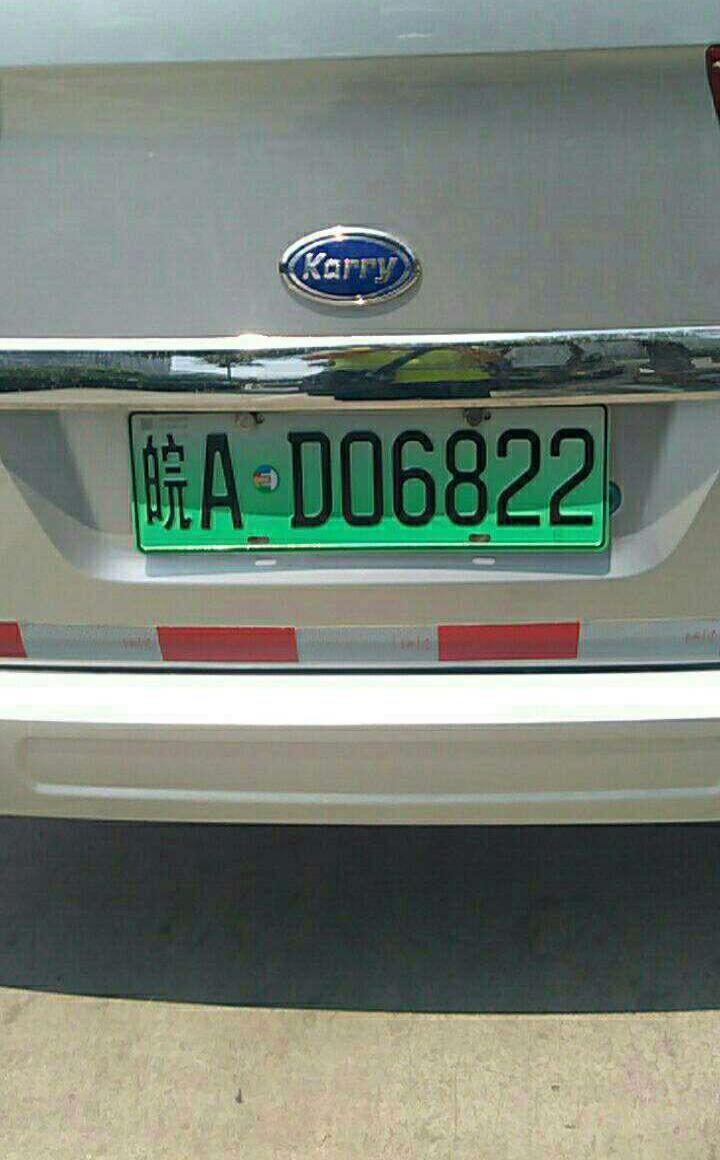car_id: (129, 401, 606, 550)
